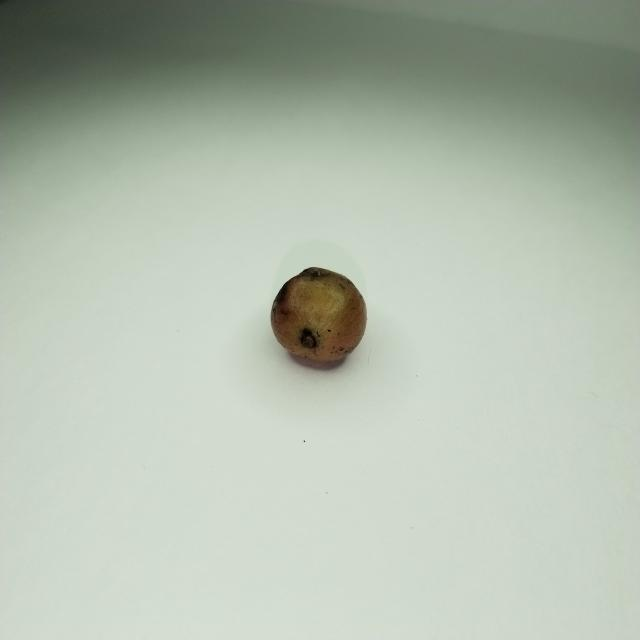Infectado: (270, 267, 366, 362)
